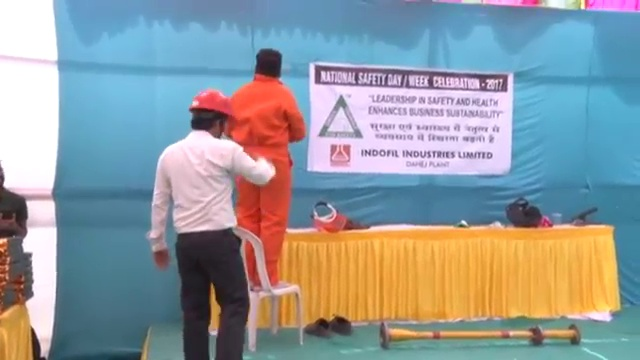helmet: (185, 86, 234, 119)
helmet_off: (252, 46, 283, 83)
helmet_on: (182, 86, 235, 138)
person: (149, 84, 272, 360), (231, 46, 306, 277)
